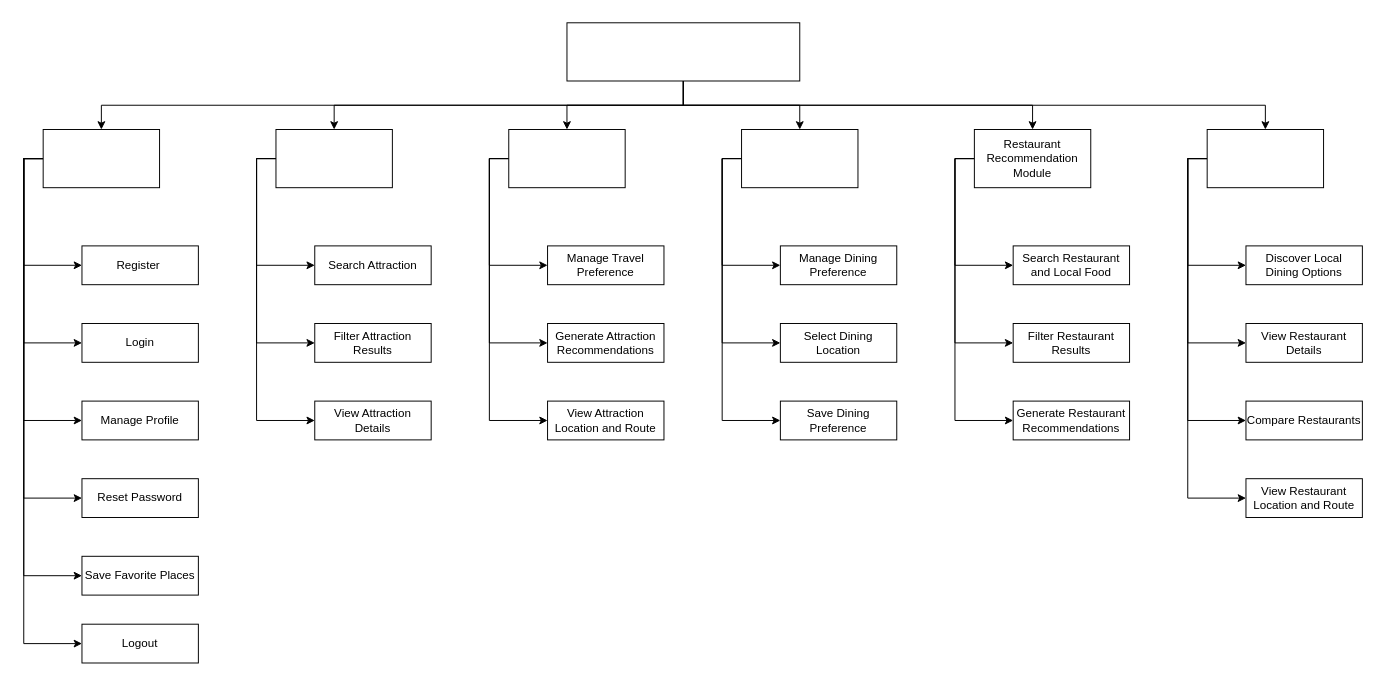
This 1379x680 diagram has some shape labels left out. Each missing label, with the centre of its shape:
Attraction Discovery Module: pixel 333 158
Attraction Recommendation Module: pixel 566 158
Dining Preference Module: pixel 799 158
DiningJourney: Multi-Objective Recommendation Web Application: pixel 683 51
Restaurant Exploration Module: pixel 1265 158
User Management Module: pixel 101 158
